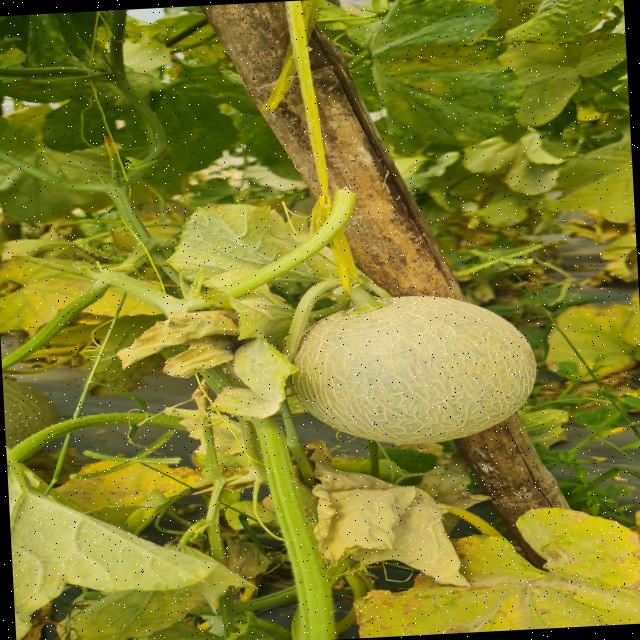melon: (292, 296, 536, 444)
